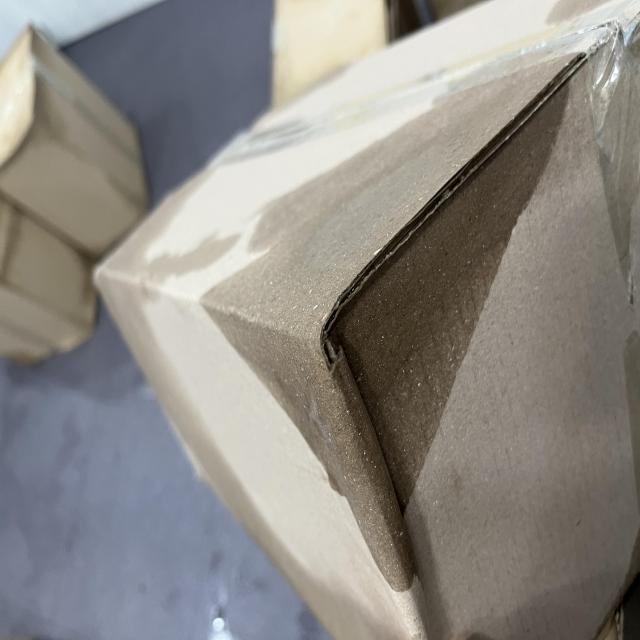wet: (112, 274, 446, 640)
